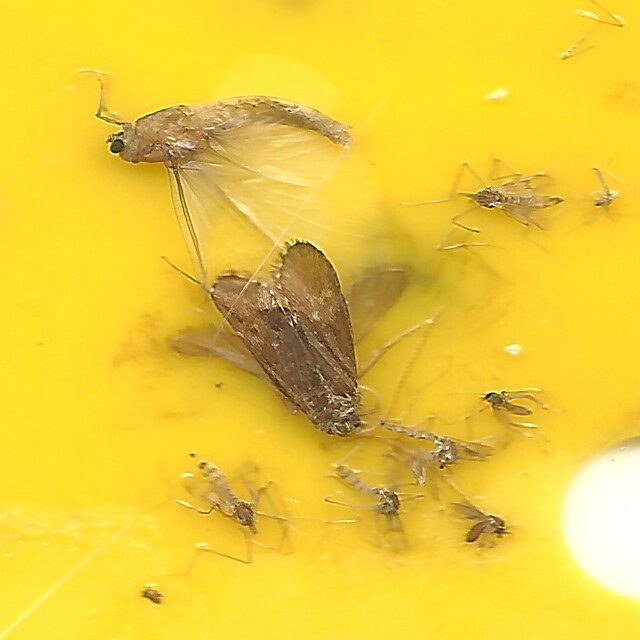Ephemeroptera: (91, 73, 366, 280)
Nematocera: (175, 452, 292, 567), (366, 410, 470, 476), (321, 449, 410, 521), (441, 502, 514, 555), (482, 383, 549, 438)
Trichoptera: (207, 240, 373, 440)
